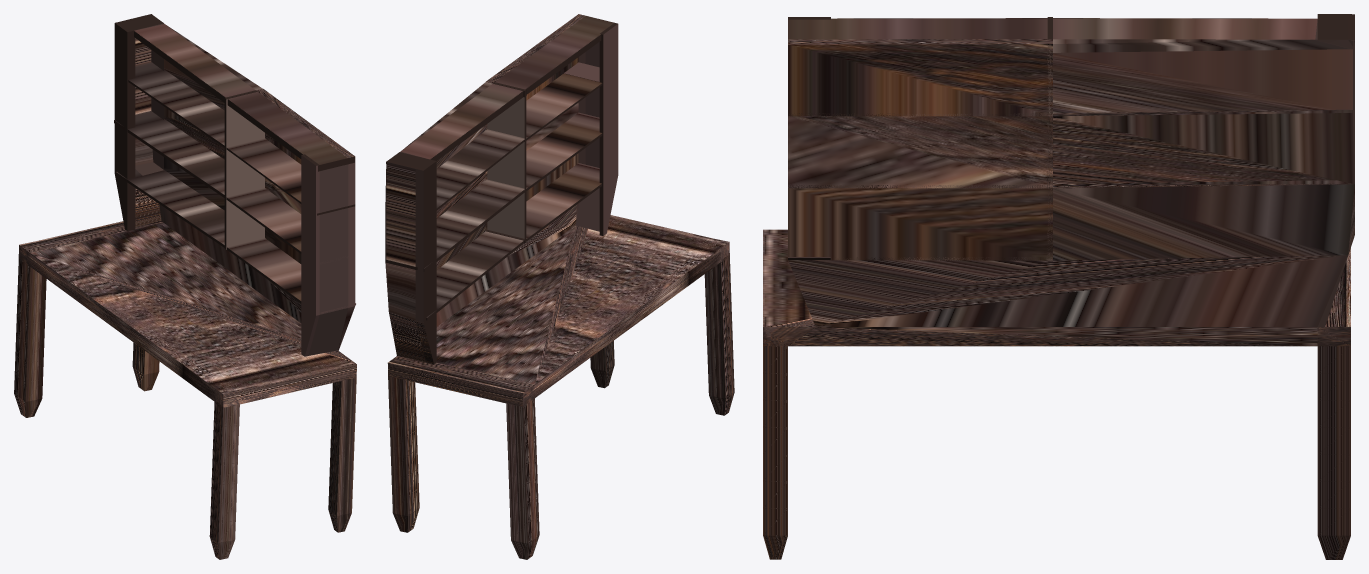
Rendered from Table spécial+texture.fbx.
The picture shows the model from 3 angles, left to right: view 1: azimuth 30°, elevation 25°; view 2: azimuth 150°, elevation 25°; view 3: azimuth 270°, elevation 25°; orthographic projection. The views are drawn at different scales.
Parts seen in each view (by area): view 1: Cube; view 2: Cube; view 3: Cube.
Boxes of the visible parts, x1,y1,x2,y2 form: Cube: [14, 14, 356, 559]; Cube: [385, 14, 734, 559]; Cube: [763, 14, 1354, 559].
Bounding box in the file's own units: 226 × 541 × 550.
